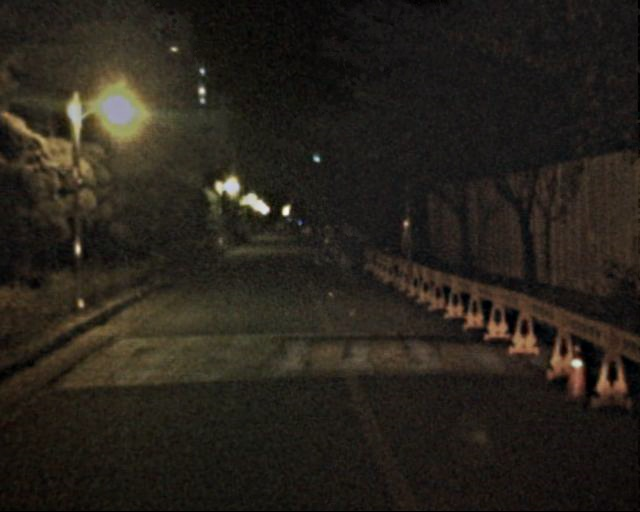person: (336, 227, 358, 280), (350, 225, 368, 269), (323, 225, 341, 268), (307, 225, 324, 267)
